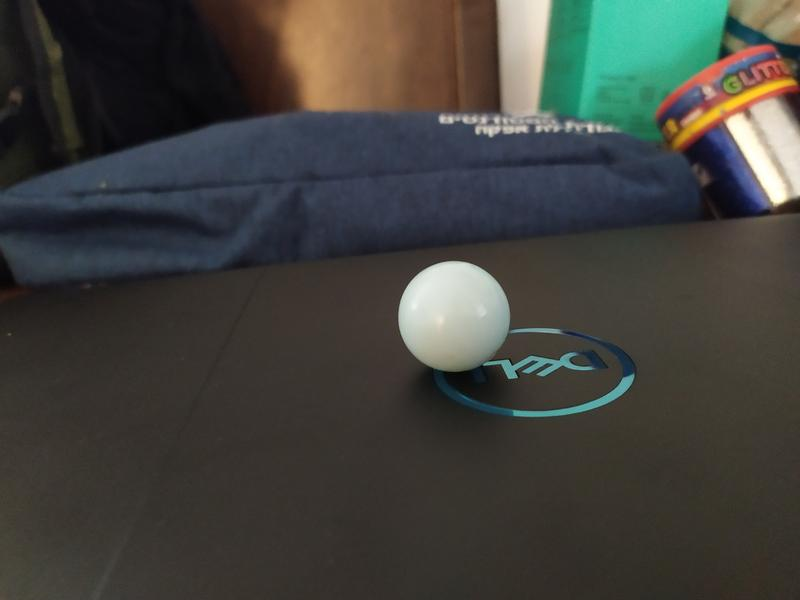Warning: (394, 257, 514, 376)
